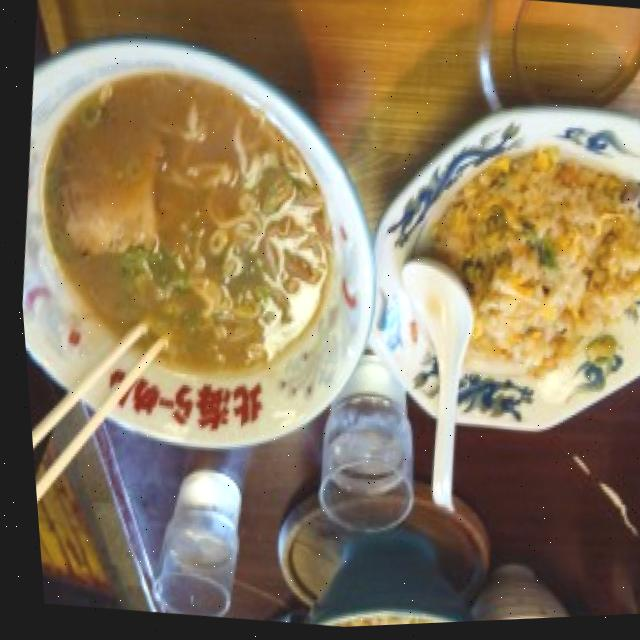米饭主食: (336, 93, 640, 473)
面条主食: (2, 13, 398, 470)
